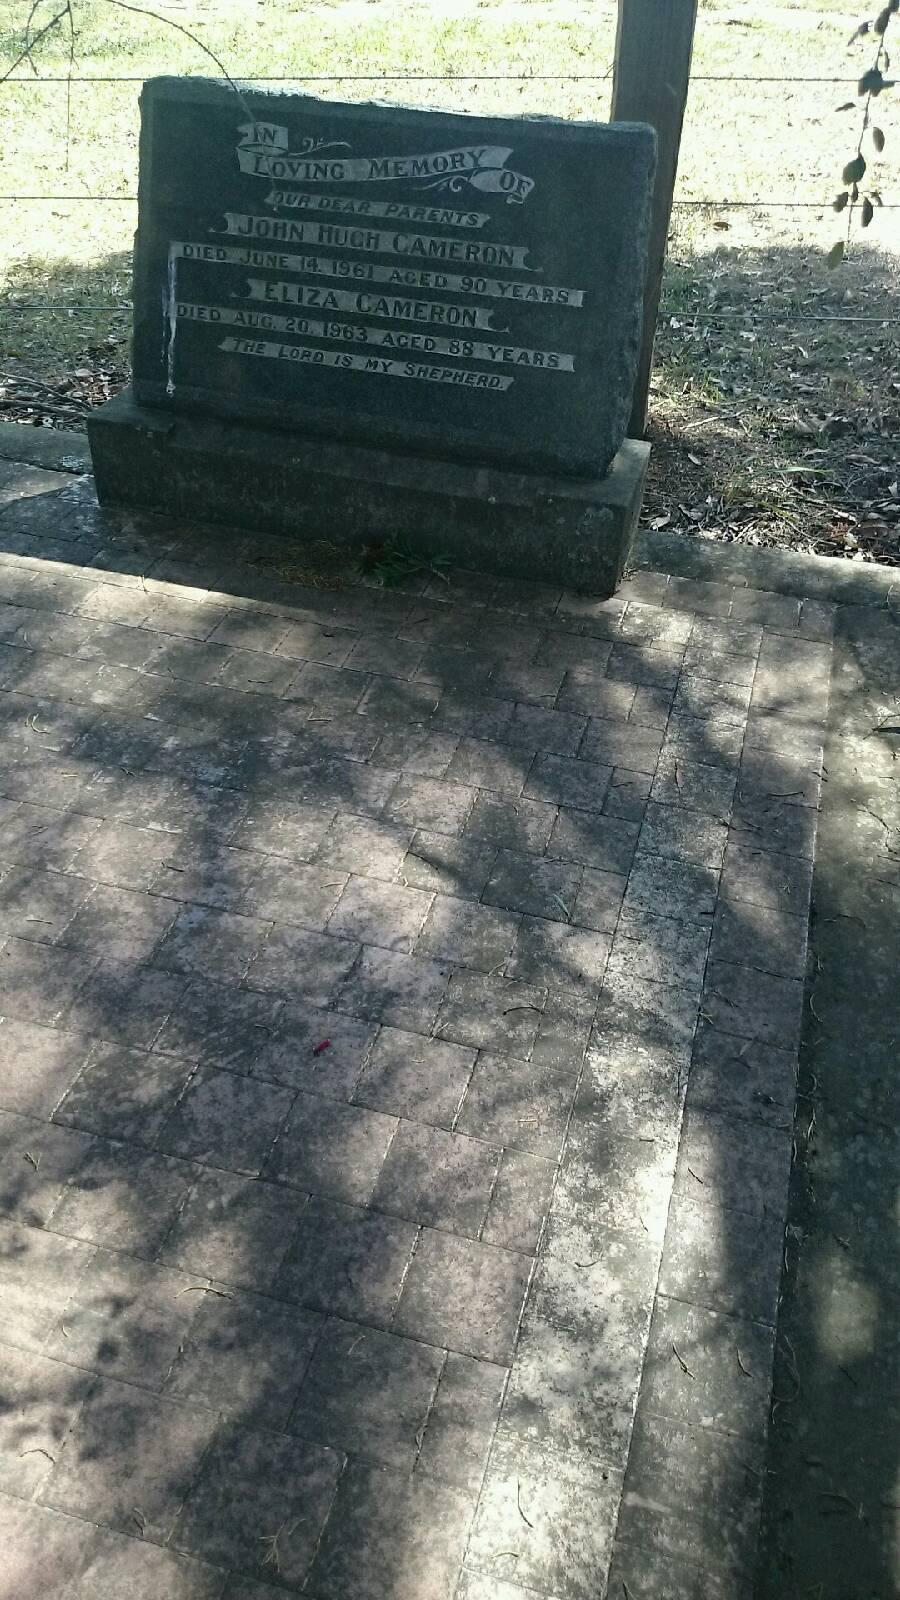upright: (105, 52, 681, 593)
